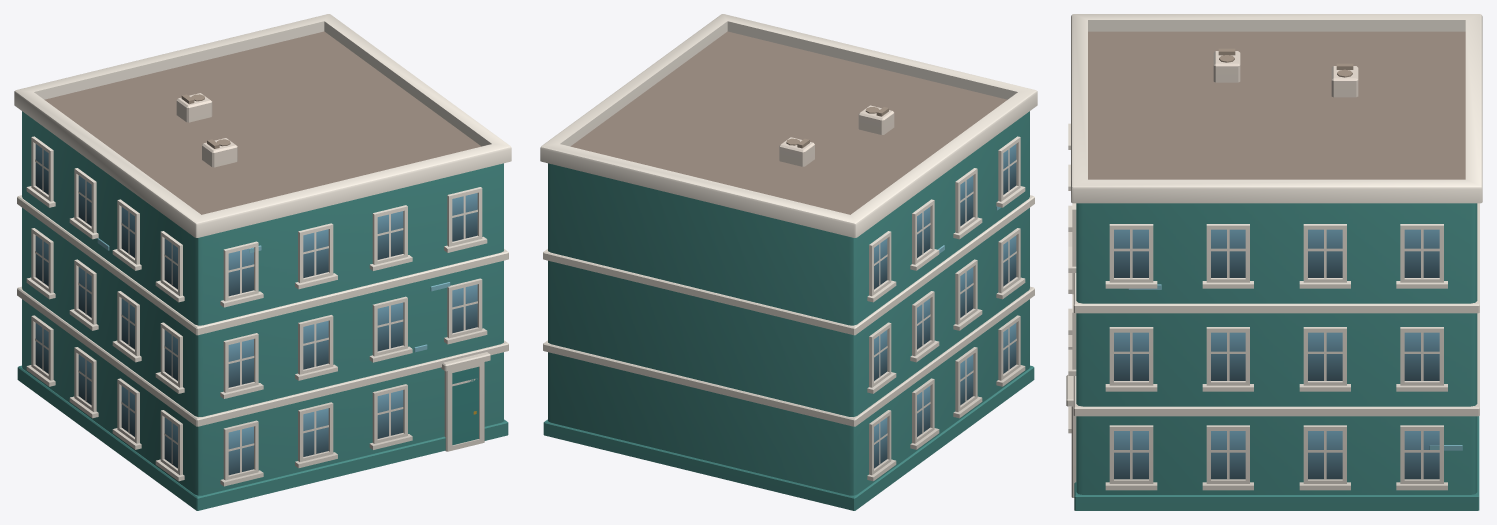
Rendered from tremont_n6.glb.
3 views of the same model, side by side, from view 1: azimuth 30°, elevation 25°; view 2: azimuth 150°, elevation 25°; view 3: azimuth 270°, elevation 25° (orthographic). The views are drawn at different scales.
Parts seen in each view (by area): view 1: tremont_n6; view 2: tremont_n6; view 3: tremont_n6.
Part boxes in pixels (bbox=[...]): tremont_n6: bbox=[14, 14, 511, 510]; tremont_n6: bbox=[540, 14, 1037, 510]; tremont_n6: bbox=[1066, 14, 1482, 510].
Size of the model in its own units: 12.48 by 11.11 by 12.46.
Materials: 1 (1 with a texture image).
